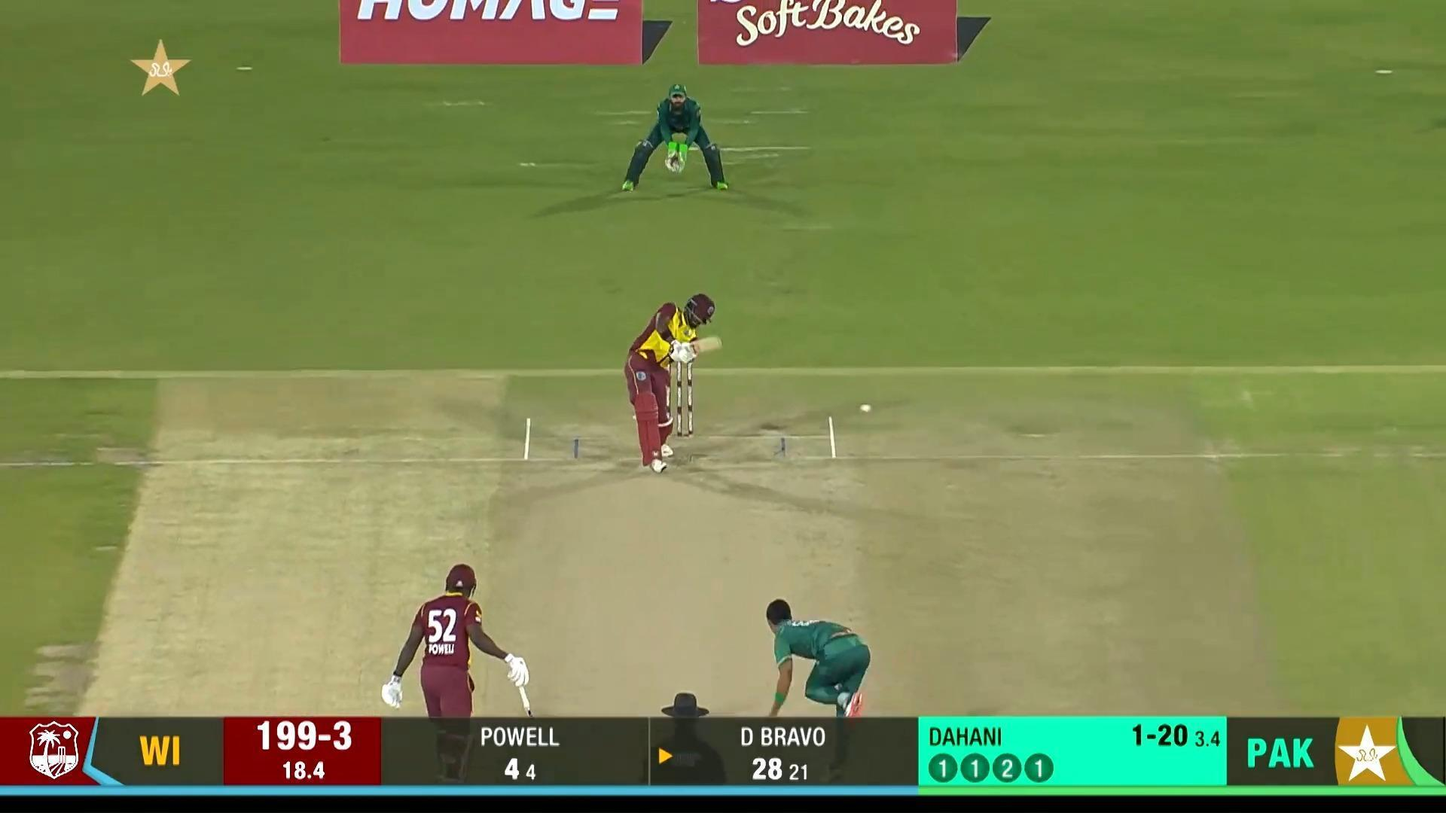BM 1: (623, 290, 723, 474)
BO: (762, 598, 872, 788)
